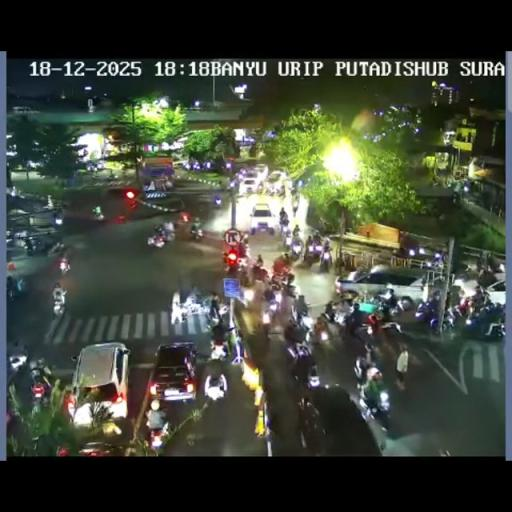Car: (69, 342, 131, 429), (336, 266, 437, 306), (148, 342, 199, 405), (475, 278, 506, 308), (248, 203, 277, 234), (7, 343, 29, 376), (239, 178, 262, 196), (252, 164, 269, 178)
Motorcycle: (227, 234, 323, 326), (295, 397, 324, 451), (358, 384, 392, 430), (461, 303, 503, 340), (316, 302, 350, 340), (290, 345, 319, 388), (5, 398, 29, 448), (144, 404, 170, 449), (27, 362, 51, 404), (414, 296, 444, 329), (350, 319, 378, 352), (204, 372, 226, 402), (262, 295, 280, 330), (283, 319, 307, 345), (390, 294, 415, 318), (354, 353, 374, 383), (269, 266, 293, 290), (448, 301, 470, 324), (208, 337, 229, 361), (302, 240, 321, 266), (170, 290, 184, 325), (222, 250, 240, 277), (6, 278, 26, 302), (250, 262, 270, 284), (52, 282, 66, 310), (379, 319, 402, 336), (318, 246, 333, 272), (185, 286, 200, 311), (146, 231, 166, 249), (282, 282, 300, 301), (290, 232, 303, 258), (294, 294, 308, 318), (47, 239, 65, 257), (487, 254, 504, 273), (238, 266, 252, 287), (189, 223, 204, 241), (378, 286, 394, 302), (430, 250, 444, 268), (216, 301, 230, 319), (242, 284, 256, 302), (7, 186, 24, 200), (162, 226, 176, 242), (58, 256, 70, 274), (278, 217, 290, 235), (24, 236, 35, 254), (282, 232, 292, 250), (266, 183, 278, 197), (452, 189, 462, 205), (291, 193, 299, 213), (284, 177, 294, 193), (52, 211, 63, 225), (240, 231, 249, 247), (226, 178, 238, 190), (254, 254, 264, 268), (276, 185, 286, 198), (212, 194, 222, 207), (283, 251, 292, 265), (164, 175, 172, 190), (86, 161, 96, 172), (292, 223, 300, 236), (180, 212, 190, 222), (95, 210, 104, 220), (96, 160, 105, 170), (182, 161, 192, 170), (107, 170, 115, 180), (46, 195, 52, 208)
